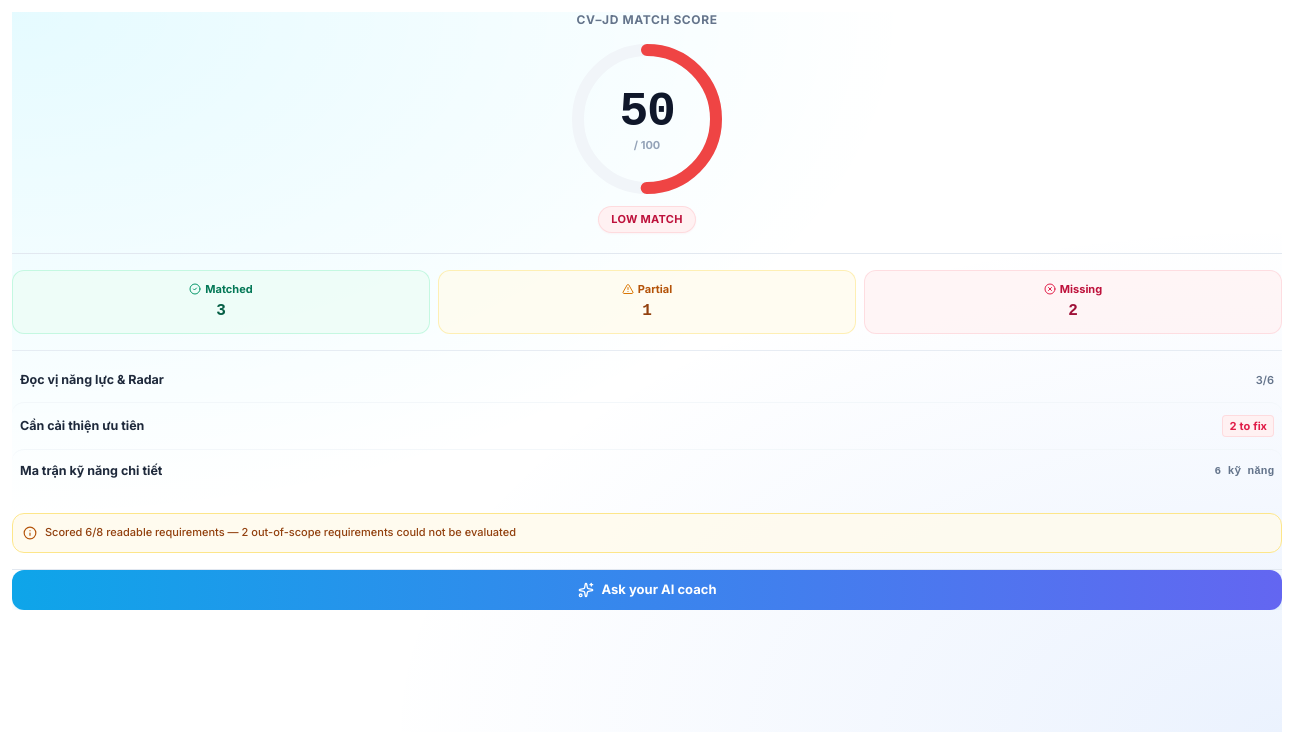
ScoreRail — unnormalized requirements chip › expands to show requirement names on click
The width and height of the screenshot is (1292, 732).
Click the chip to expand
What coordinates should you click on to do the following:
click the button "6/8 readable requirements"
I would click on:
 (280, 532)
Its box is [12, 513, 1282, 553].
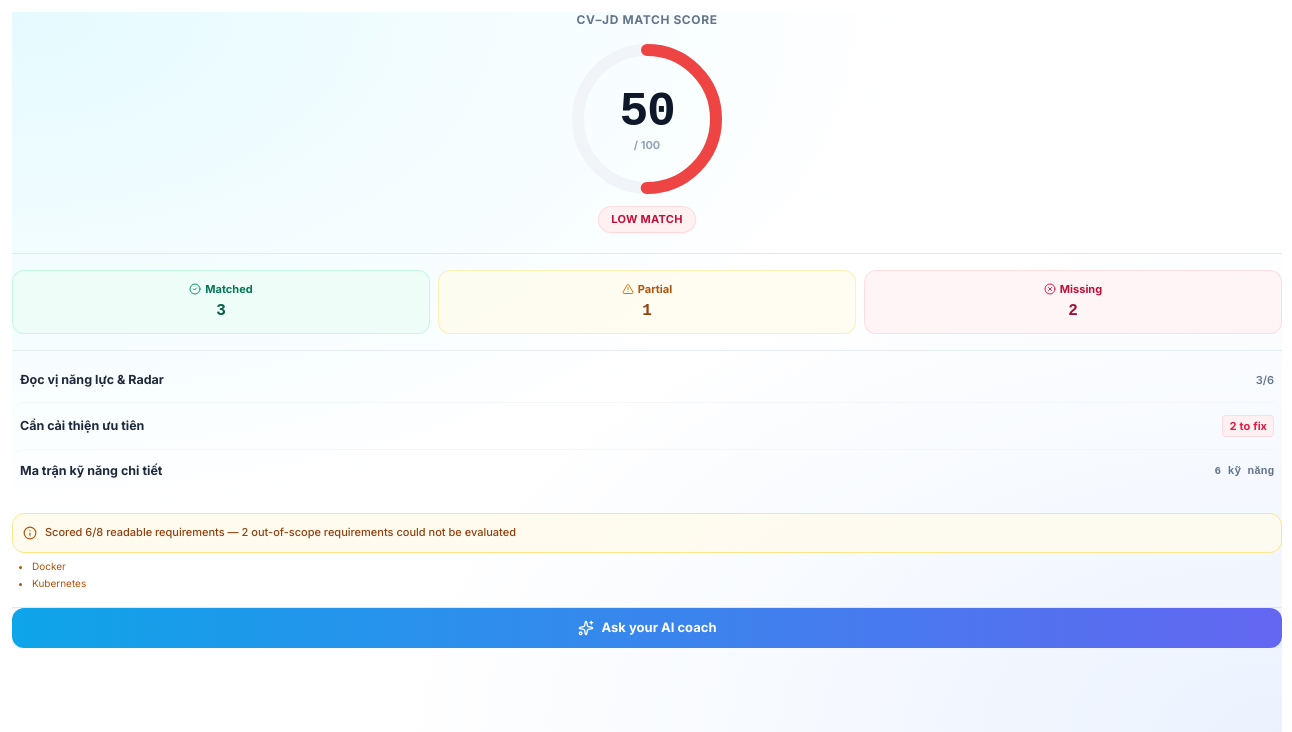
Result: the list item "Docker" is shown at [32, 560, 66, 572]
Result: the list item "Kubernetes" is shown at [32, 577, 86, 589]
